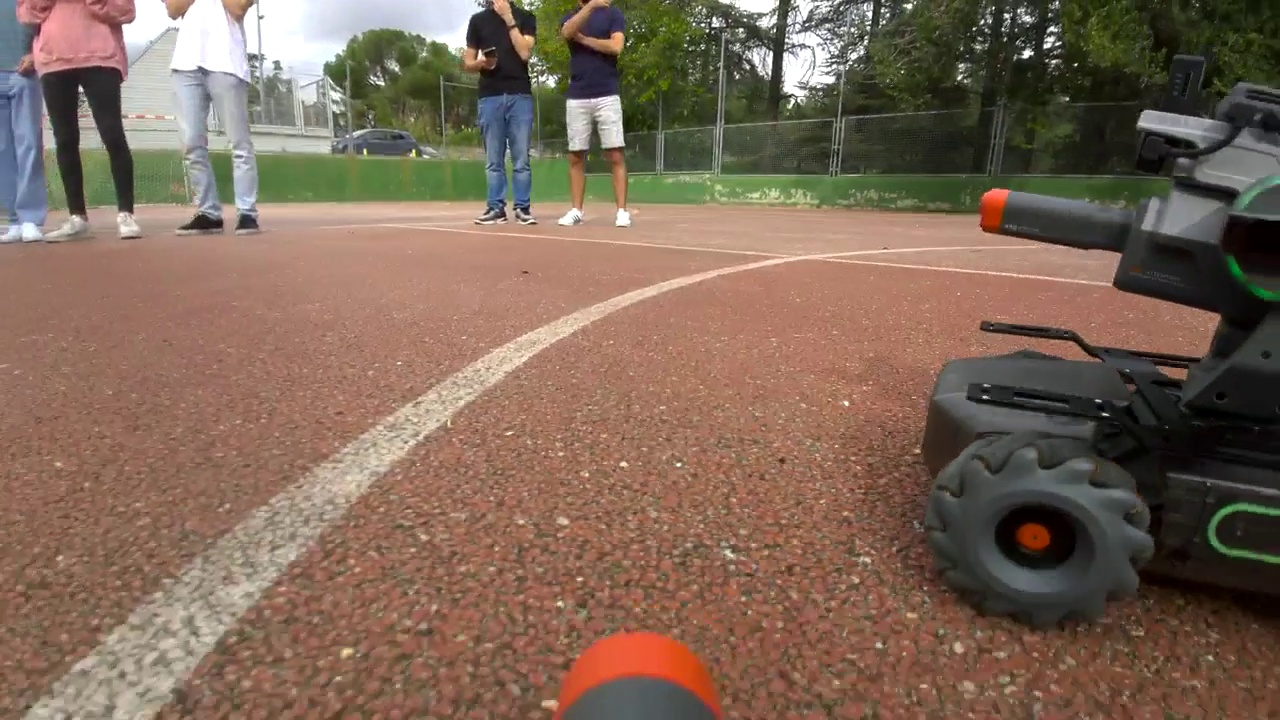robot: (917, 89, 1280, 640)
